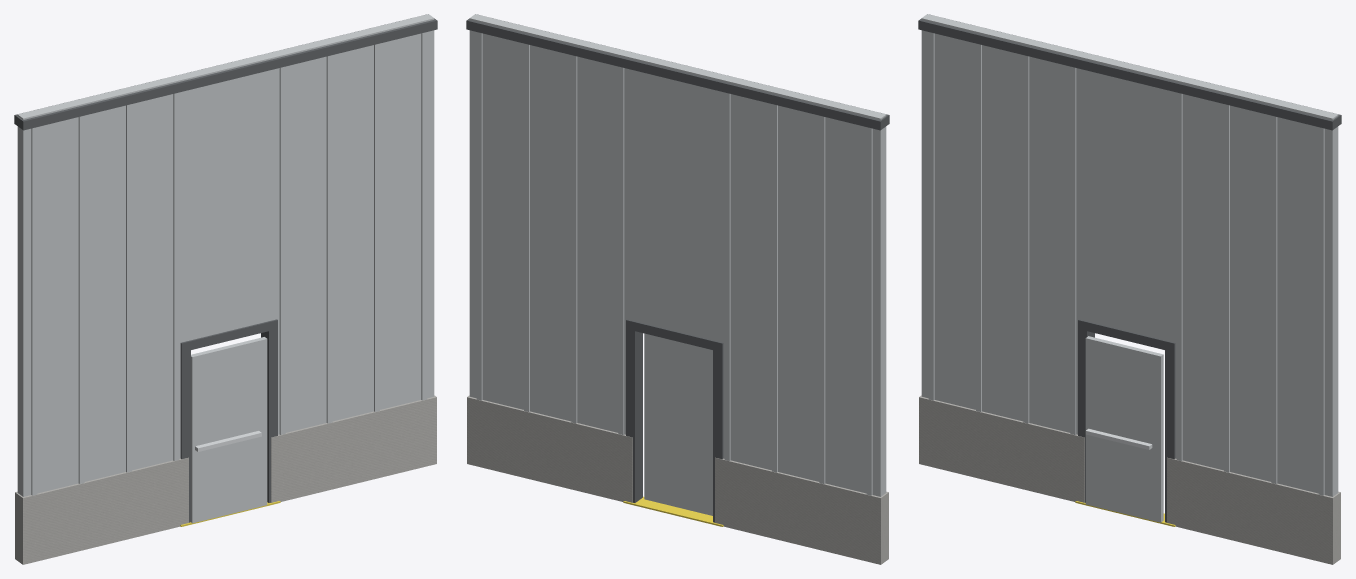
Rendered from hall-personnel-door-bay-2.glb.
3 views of the same model, side by side, from view 1: azimuth 30°, elevation 25°; view 2: azimuth 150°, elevation 25°; view 3: azimuth 330°, elevation 25° (orthographic).
Visible parts, largest first — view 1: machine-shop-and-factory-hall-hall-door-bay, personnel-door/cast; view 2: machine-shop-and-factory-hall-hall-door-bay, personnel-door/cast; view 3: machine-shop-and-factory-hall-hall-door-bay, personnel-door/cast.
Part boxes in pixels (<box>): machine-shop-and-factory-hall-hall-door-bay: <box>14,14,437,564</box>; personnel-door/cast: <box>191,337,267,523</box>; machine-shop-and-factory-hall-hall-door-bay: <box>466,14,889,564</box>; personnel-door/cast: <box>644,333,712,515</box>; machine-shop-and-factory-hall-hall-door-bay: <box>918,14,1341,564</box>; personnel-door/cast: <box>1085,336,1163,522</box>.
Bounding box in the file's own units: 5.84 × 6 × 0.32.
Materials: 6 (1 with a texture image).
